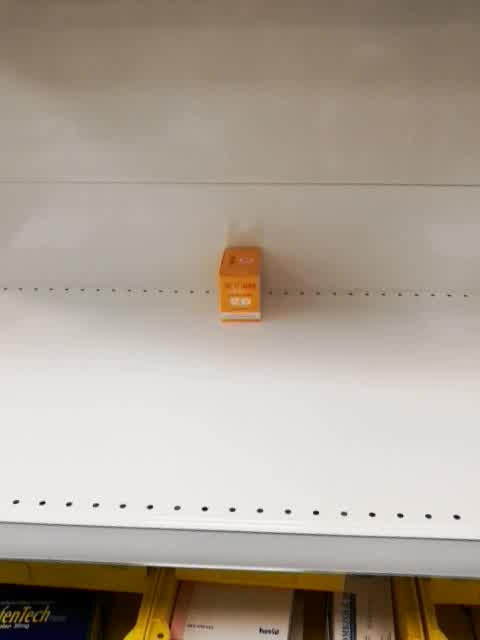jasminetea: (217, 246, 262, 323)
